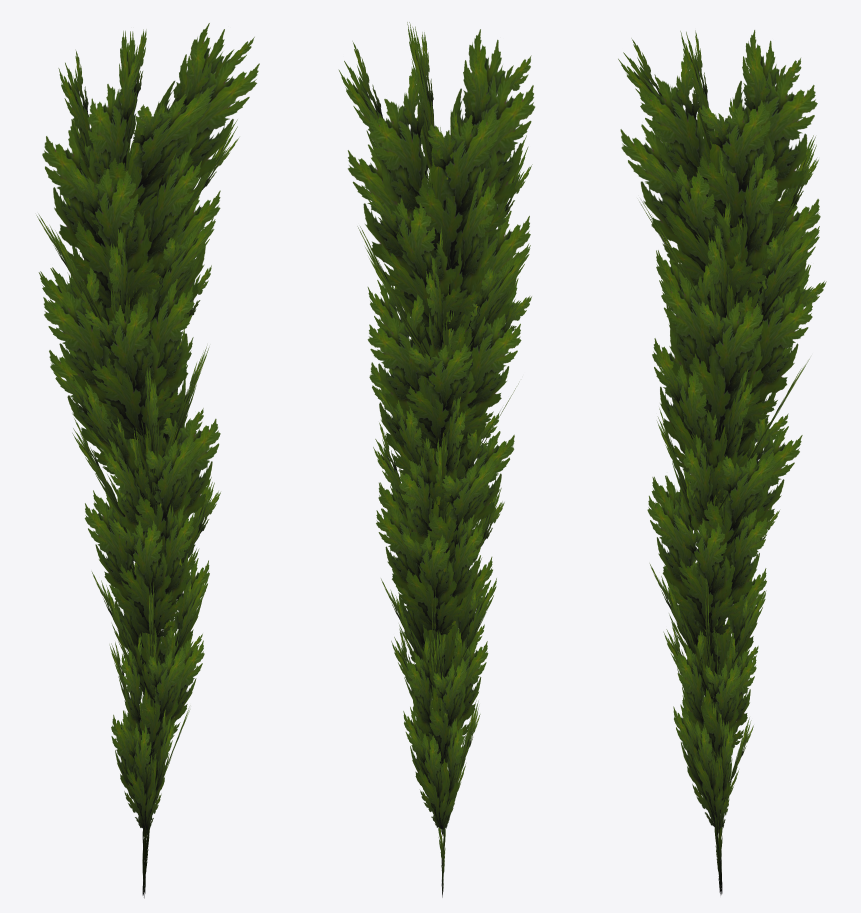
The model's file is SeaWeed03_LOD0_FattooCreater.glb.
The picture shows the model from 3 angles, left to right: view 1: azimuth 30°, elevation 25°; view 2: azimuth 150°, elevation 25°; view 3: azimuth 270°, elevation 25°; orthographic projection. The views are drawn at different scales.
Visible parts, largest first — view 1: SeaWeed03_high; view 2: SeaWeed03_high; view 3: SeaWeed03_high.
Part boxes in pixels (bbox=[...]): SeaWeed03_high: bbox=[36, 23, 259, 898]; SeaWeed03_high: bbox=[338, 22, 535, 897]; SeaWeed03_high: bbox=[618, 30, 826, 895].
Size of the model in its own units: 0.2577 by 0.9644 by 0.2575.
Materials: 1 (1 with a texture image).
